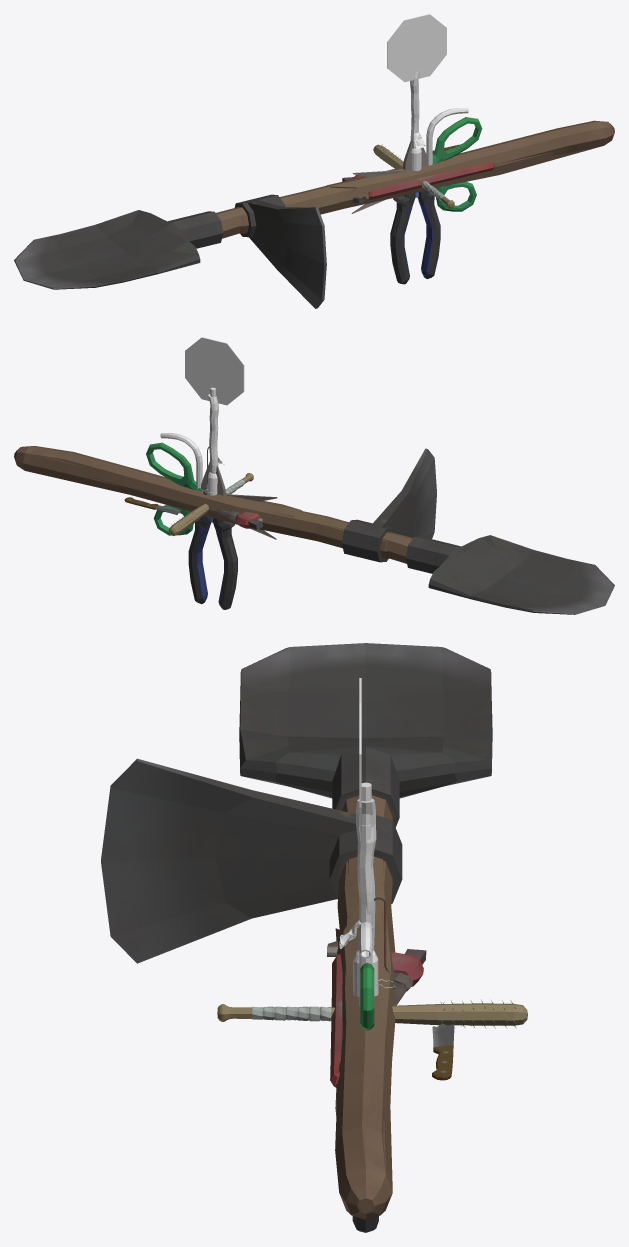
File: weapons2.fbx
The picture shows the model from 3 angles, top to bottom: view 1: azimuth 30°, elevation 25°; view 2: azimuth 150°, elevation 25°; view 3: azimuth 270°, elevation 25°; orthographic projection. The views are drawn at different scales.
Visible parts, largest first — view 1: F_shovel, F_hoe, F_shovelAndHoeB, F_sign, F_pincers2, F_pincers1, F_pWrenchHandle, F_scissors2, F_scissors1, F_bat, Cylinder.002, metal pipe b; view 2: F_shovel, F_hoe, F_sign, F_shovelAndHoeB, F_pincers2, F_pincers1, F_scissors2, F_bat, Cylinder.002, F_scissors1, metal pipe b; view 3: F_hoe, F_shovel, F_shovelAndHoeB, F_bat, Cylinder.002, F_pWrenchHandle, F_scissors2.
Boxes of the visible parts, bbox=[...] form: F_shovel: bbox=[14, 120, 614, 289]; F_hoe: bbox=[234, 121, 614, 308]; F_shovelAndHoeB: bbox=[326, 121, 605, 211]; F_sign: bbox=[387, 14, 446, 82]; F_pincers2: bbox=[390, 147, 427, 284]; F_pincers1: bbox=[403, 140, 440, 278]; F_pWrenchHandle: bbox=[368, 162, 494, 199]; F_scissors2: bbox=[351, 117, 482, 213]; F_scissors1: bbox=[352, 170, 476, 211]; F_bat: bbox=[373, 144, 454, 208]; Cylinder.002: bbox=[410, 71, 420, 148]; metal pipe b: bbox=[426, 108, 468, 165]; F_shovel: bbox=[25, 446, 614, 614]; F_hoe: bbox=[14, 446, 436, 562]; F_sign: bbox=[185, 337, 244, 405]; F_shovelAndHoeB: bbox=[30, 446, 301, 517]; F_pincers2: bbox=[201, 462, 237, 609]; F_pincers1: bbox=[188, 466, 225, 604]; F_scissors2: bbox=[146, 442, 276, 539]; F_bat: bbox=[169, 473, 253, 535]; Cylinder.002: bbox=[208, 394, 218, 473]; F_scissors1: bbox=[153, 494, 277, 535]; metal pipe b: bbox=[160, 433, 202, 489]; F_hoe: bbox=[101, 758, 402, 1219]; F_shovel: bbox=[239, 643, 492, 1205]; F_shovelAndHoeB: bbox=[335, 906, 385, 1192]; F_bat: bbox=[217, 1003, 527, 1025]; Cylinder.002: bbox=[356, 798, 376, 950]; F_pWrenchHandle: bbox=[330, 954, 342, 1087]; F_scissors2: bbox=[360, 962, 374, 1030].
Size of the model in its own units: 1999 by 860 by 627.
